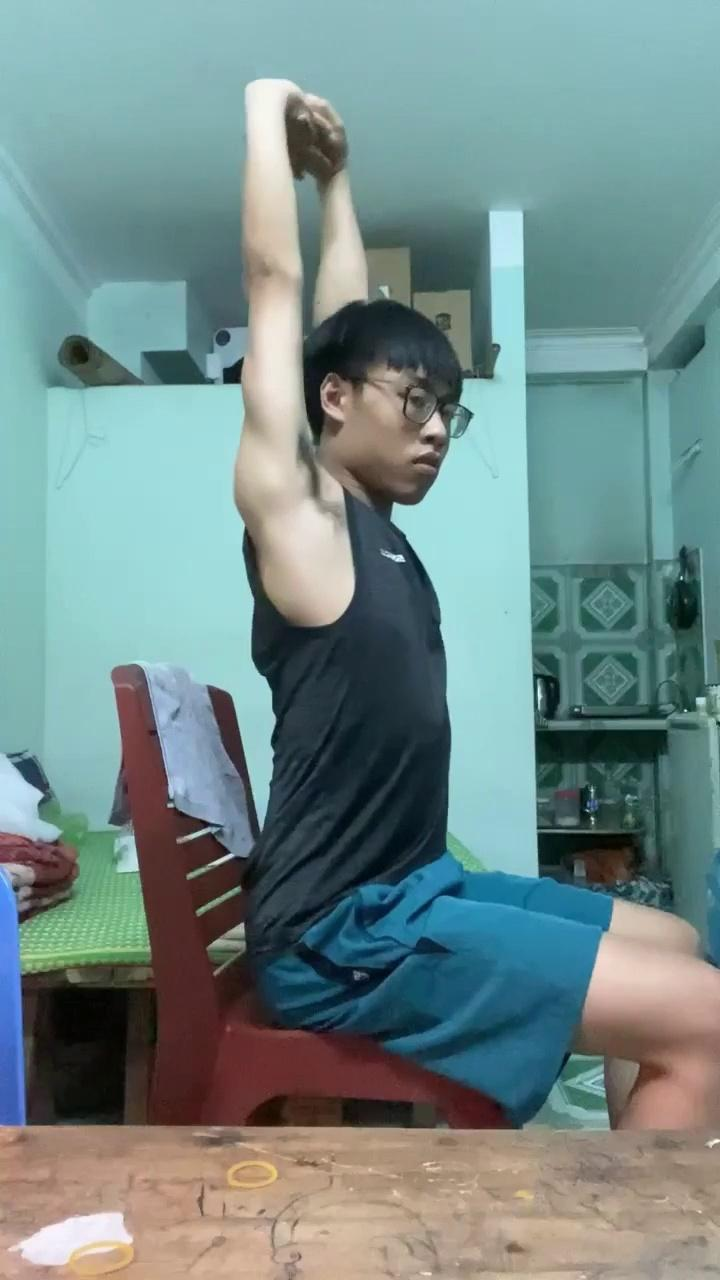GoodPosture: (234, 79, 719, 1129)
